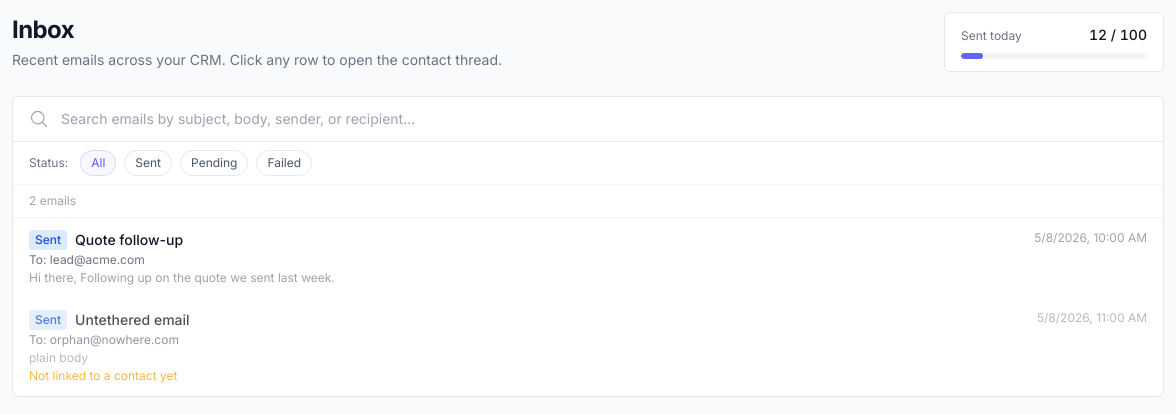
Test: InboxPage › renders empty-state copy when search returns no rows
expect the text "Quote follow-up" is shown: met, box [75,230,183,250]
Type "nothing-matches" into the search field with placeholder "Search emails by subject, body, sender, or recipient...". click: (604, 119)
box: [61,109,1147,129]
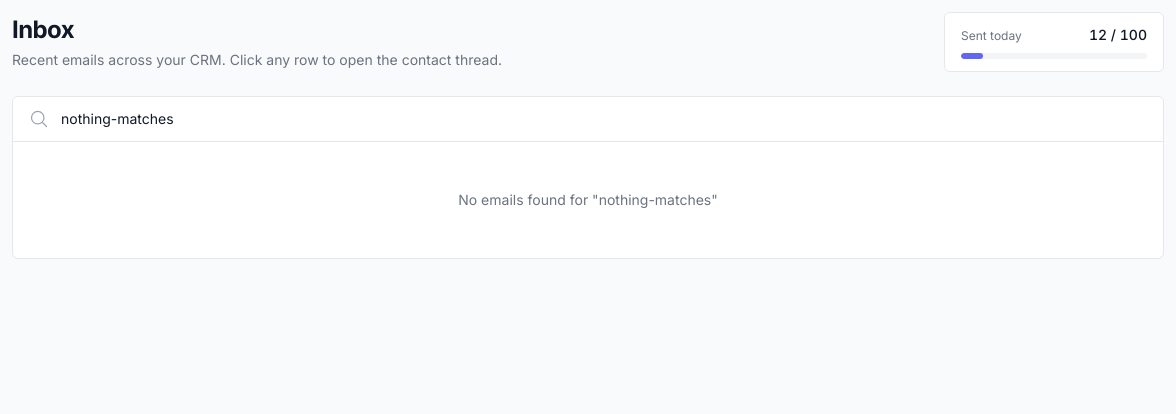
expect the text "No emails found for \"nothing-matches\"" is shown: met, box [458,190,718,210]
